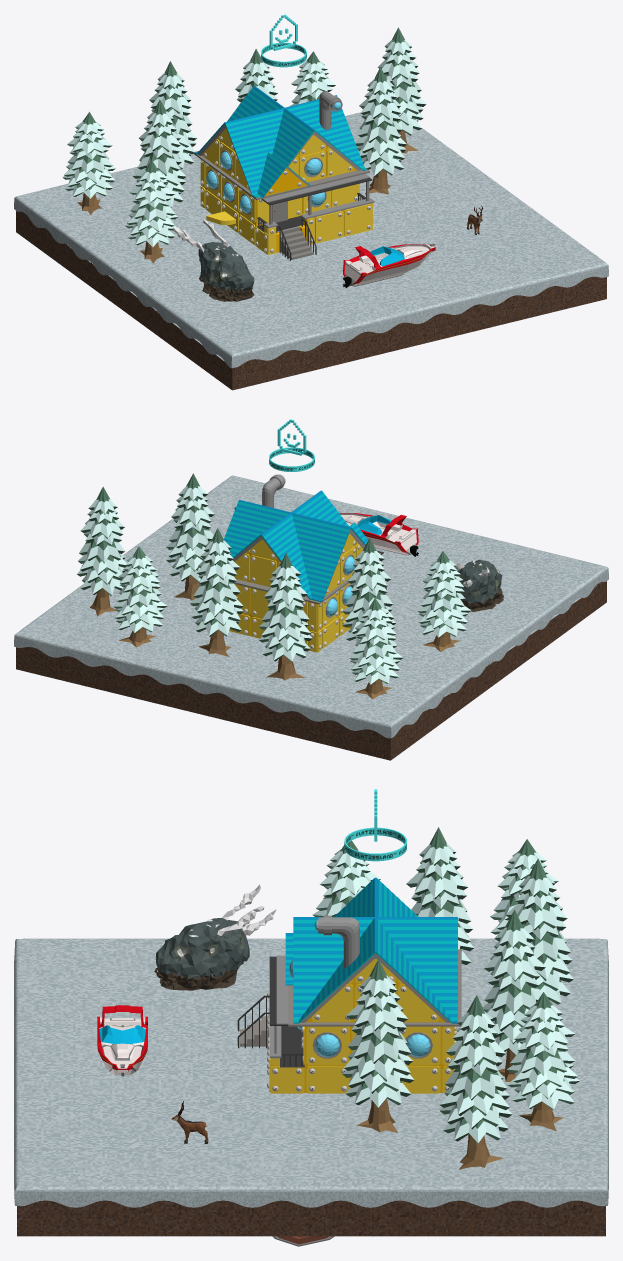
3 views of the same model, one above another, from view 1: azimuth 30°, elevation 25°; view 2: azimuth 150°, elevation 25°; view 3: azimuth 270°, elevation 25° (orthographic). The views are drawn at different scales.
Parts seen in each view (by area): view 1: Cube.003, Cube.1366, OBJRANDOM_METEORITE, VEHICLES_BOAT, TYPE_PREMIUM; view 2: Cube.003, Cube.1366, VEHICLES_BOAT, OBJRANDOM_METEORITE, TYPE_PREMIUM; view 3: Cube.003, Cube.1366, OBJRANDOM_METEORITE, VEHICLES_BOAT, TYPE_PREMIUM.
Part boxes in pixels (x1,y1,x2,y2): Cube.003: (14, 27, 608, 390); Cube.1366: (193, 86, 374, 260); OBJRANDOM_METEORITE: (173, 219, 254, 301); VEHICLES_BOAT: (342, 243, 435, 288); TYPE_PREMIUM: (261, 14, 306, 67); Cube.003: (14, 473, 608, 760); Cube.1366: (224, 474, 386, 652); VEHICLES_BOAT: (339, 513, 418, 556); OBJRANDOM_METEORITE: (454, 559, 503, 611); TYPE_PREMIUM: (269, 419, 314, 471); Cube.003: (14, 827, 608, 1236); Cube.1366: (237, 877, 461, 1093); OBJRANDOM_METEORITE: (154, 884, 276, 990); VEHICLES_BOAT: (97, 1005, 147, 1076); TYPE_PREMIUM: (344, 789, 406, 861).
Size of the model in its own units: 4040 by 3184 by 4040.
37 materials, 4 textured.
